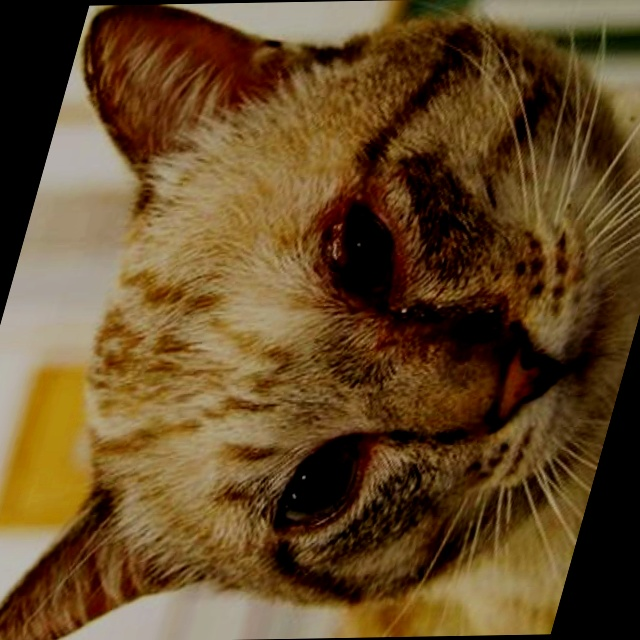eye_infection: (259, 429, 379, 539), (311, 198, 426, 310)
